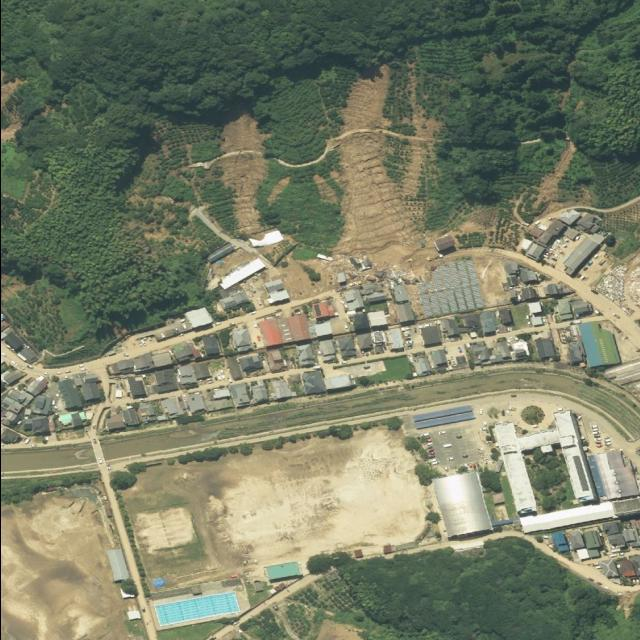landslide: (333, 132, 424, 264), (217, 114, 267, 234), (341, 67, 388, 128)
